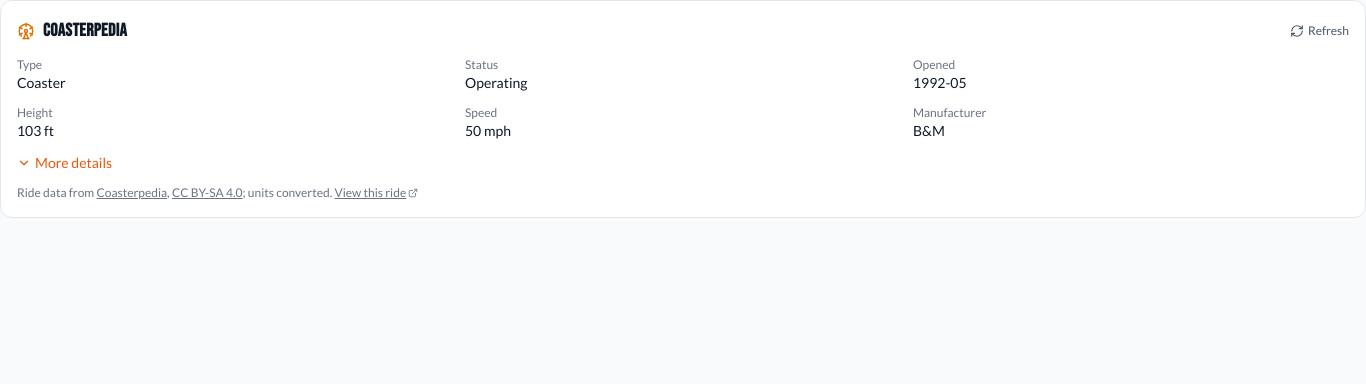
CoasterpediaCard › converts to imperial and reveals details on expand
The image size is (1366, 384).
Expected: the text "103 ft" is shown, [17,122,54,139]
Expected: the text "units converted" is shown, [242,185,330,200]
Click the button "More details": click(65, 163) [17,153,112,173]
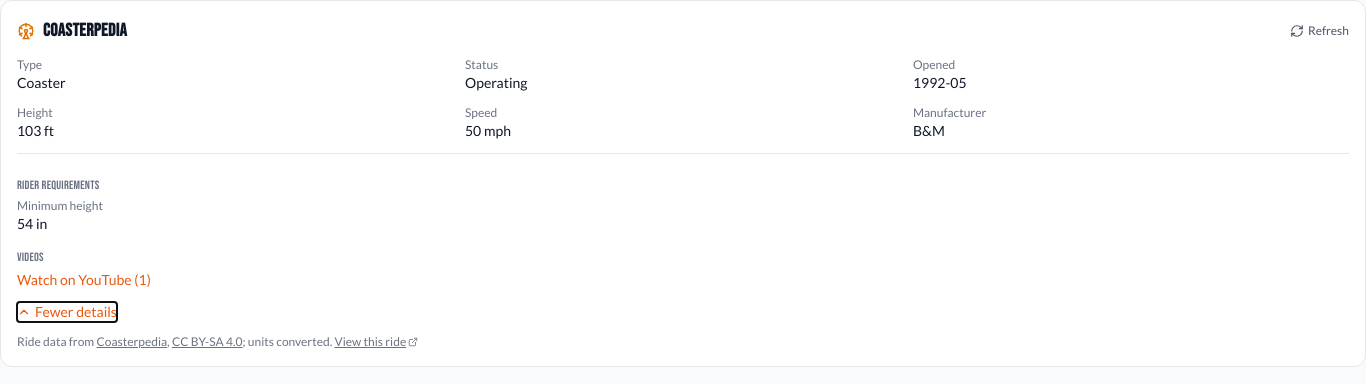
Expected: the heading "Rider requirements" is shown, [17,178,100,193]
Expected: the text "54 in" is shown, [17,215,47,232]
